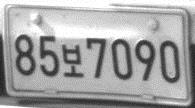0: (110, 37, 134, 81), (159, 38, 181, 83)
5: (37, 34, 59, 77)
7: (85, 36, 107, 80)
8: (14, 34, 35, 76)
9: (134, 38, 156, 82)
보: (59, 43, 85, 78)
